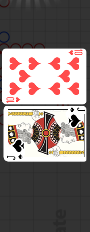10H: (5, 96, 21, 104)
7S: (5, 154, 23, 161)
